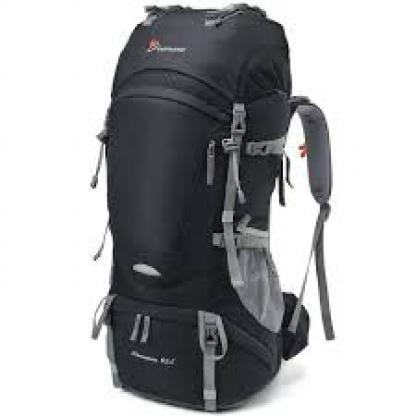morral: (74, 2, 357, 414)
